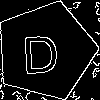D: (20, 26, 60, 74)
